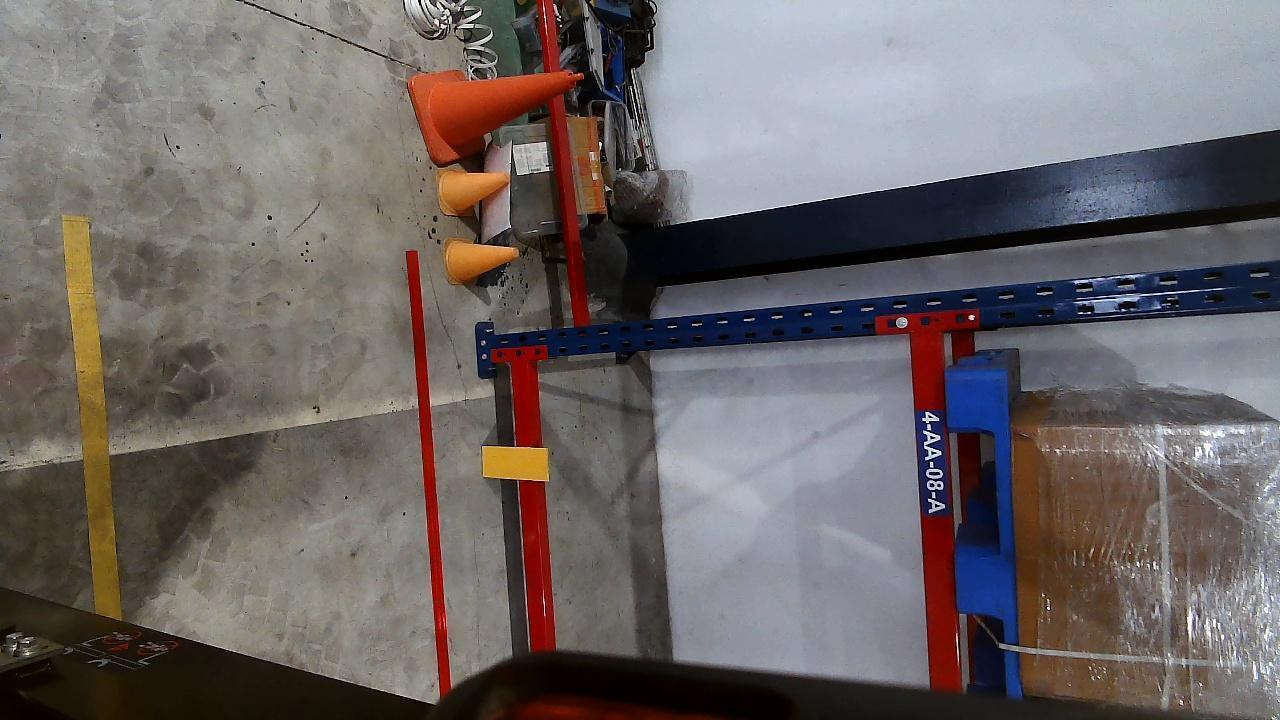red_line: (409, 250, 452, 694)
yellow_line: (59, 213, 117, 618)
